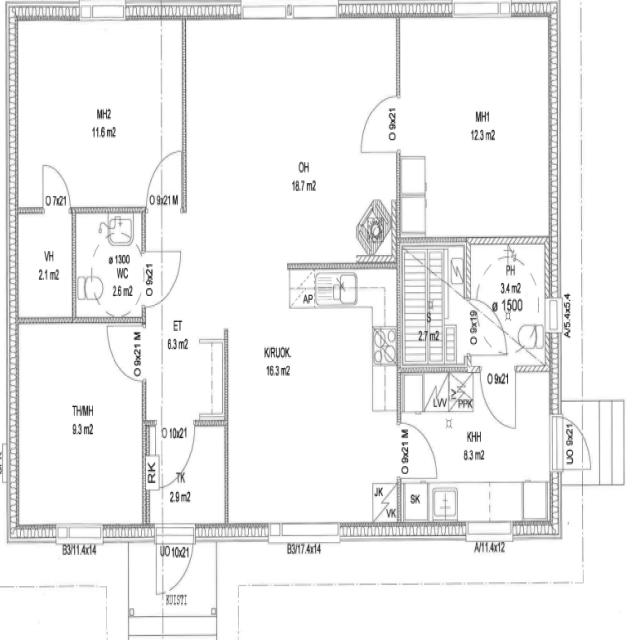door: (155, 420, 195, 488), (156, 523, 192, 597), (550, 416, 596, 471), (359, 94, 401, 152), (396, 422, 436, 478), (467, 299, 507, 355), (107, 326, 146, 383), (480, 366, 515, 427), (142, 253, 180, 305), (147, 154, 180, 213), (42, 163, 70, 213)
